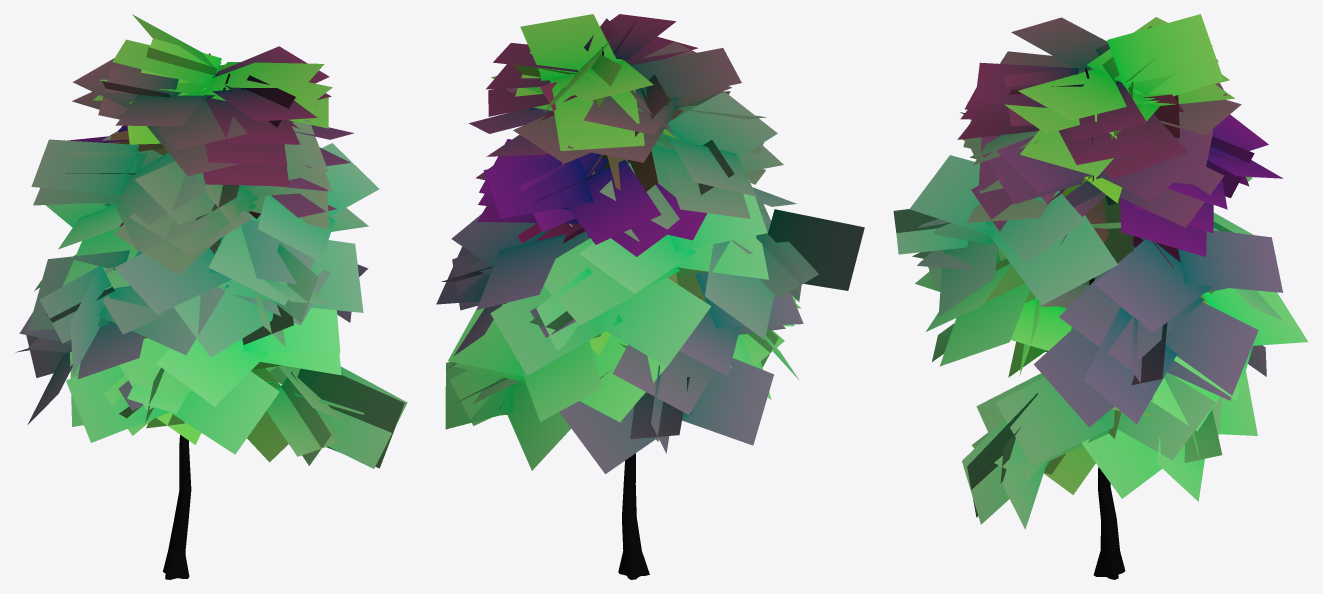
Rendered from Tree_1_2.fbx.
The picture shows the model from 3 angles, left to right: view 1: azimuth 30°, elevation 25°; view 2: azimuth 150°, elevation 25°; view 3: azimuth 270°, elevation 25°; orthographic projection. The views are drawn at different scales.
Visible parts, largest first — view 1: _2; view 2: _2; view 3: _2.
Boxes of the visible parts, bbox=[...] form: _2: bbox=[15, 14, 407, 579]; _2: bbox=[436, 14, 864, 579]; _2: bbox=[893, 14, 1307, 579].
Size of the model in its own units: 1205 by 1751 by 1179.
